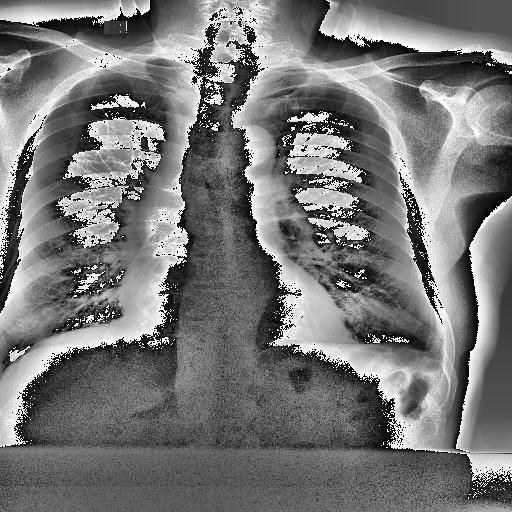0- Aortic enlargement: (135, 128, 275, 244), (220, 129, 278, 183), (219, 120, 276, 168)
10- Pleural effusion: (402, 327, 453, 379), (409, 336, 456, 380), (416, 311, 448, 373)
11- Pleural thickening: (402, 327, 453, 379), (409, 336, 456, 380), (416, 311, 448, 373)
